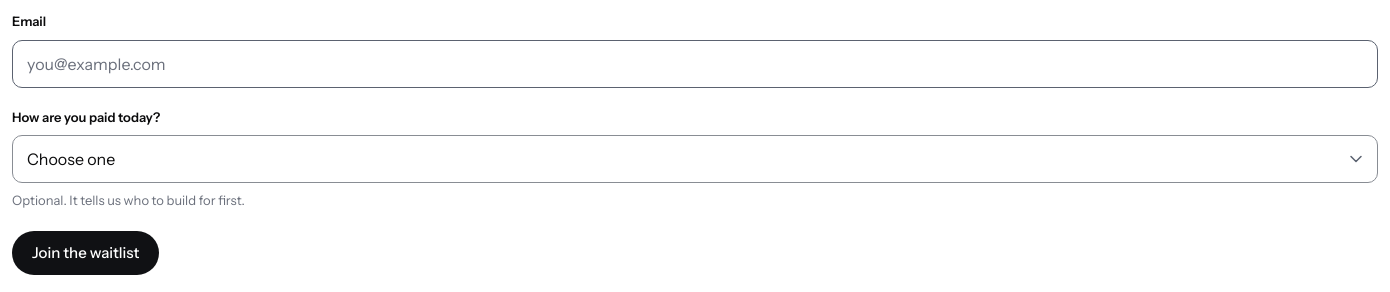
Test: WaitlistForm › joins with the normalized email and the answer, then confirms
Type " Ada@Example.com " into the field labelled "Email". click: (695, 64)
box: 12,40 -> 1378,88
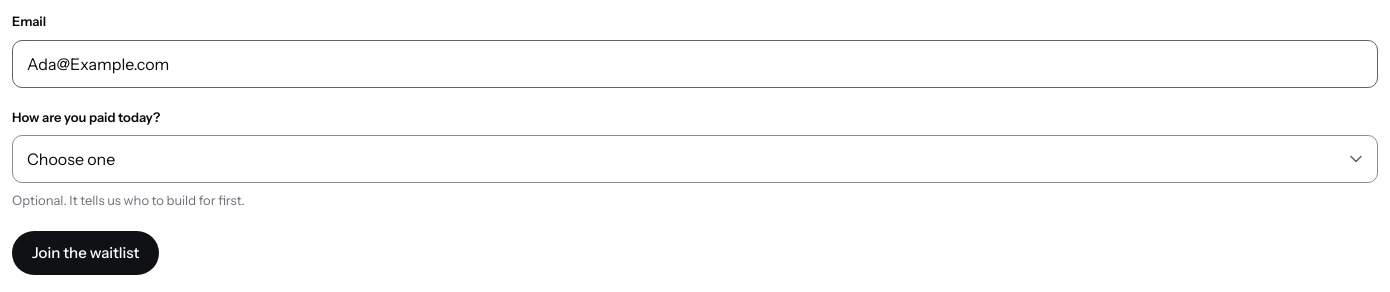
Select "By bank transfer" in the dropdown labelled "How are you paid today?". click: (695, 159)
box: 12,135 -> 1378,183
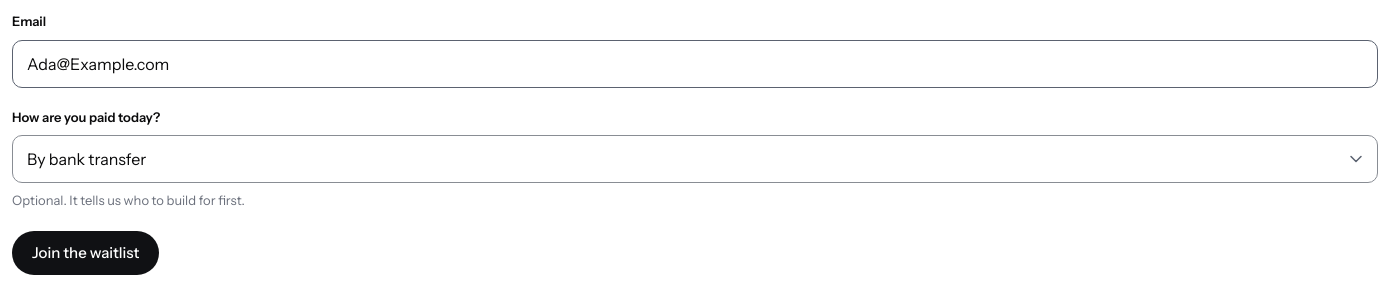
Click the button "Join the waitlist". click: click(86, 252)
box: 12,230 -> 159,274
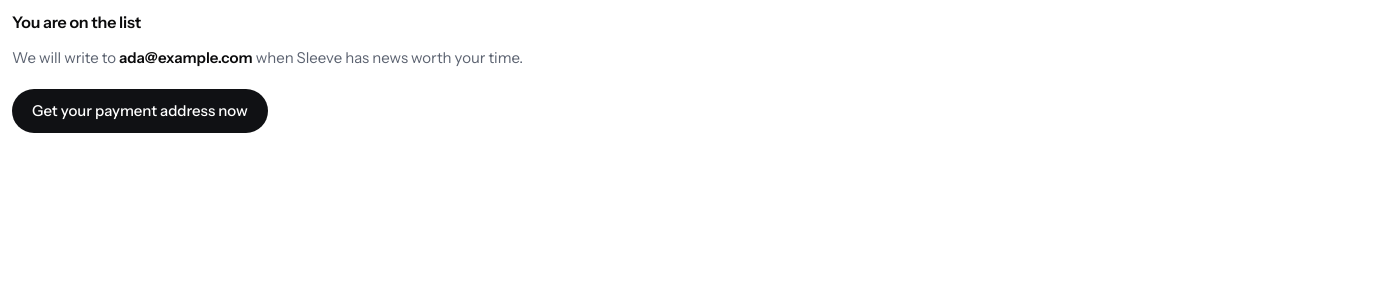
Now the message shows "You are on the list", box 12,12 -> 141,32
Now the text "ada@example.com" is shown, box 119,48 -> 253,67
